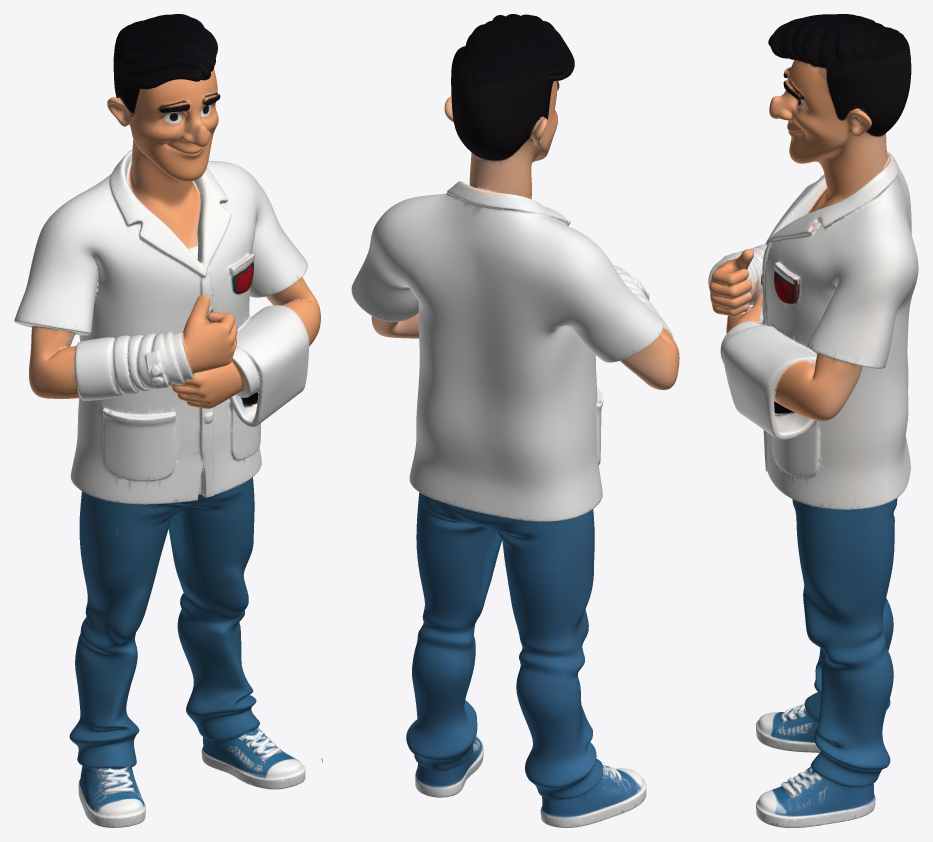
File: Meshy_AI_A_stylized_low_poly_h_0405211734_texture.fbx
3 renders of one model, left to right at view 1: azimuth 30°, elevation 25°; view 2: azimuth 150°, elevation 25°; view 3: azimuth 270°, elevation 25°, orthographic.
Visible parts, largest first — view 1: Mesh_0; view 2: Mesh_0; view 3: Mesh_0.
Part boxes in pixels (left/top/right/bottom): Mesh_0: left=14, top=14, right=322, bottom=827; Mesh_0: left=351, top=14, right=679, bottom=827; Mesh_0: left=708, top=14, right=918, bottom=827.
Size of the model in its own units: 76.54 by 190 by 47.36.
Materials: 1 (1 with a texture image).
